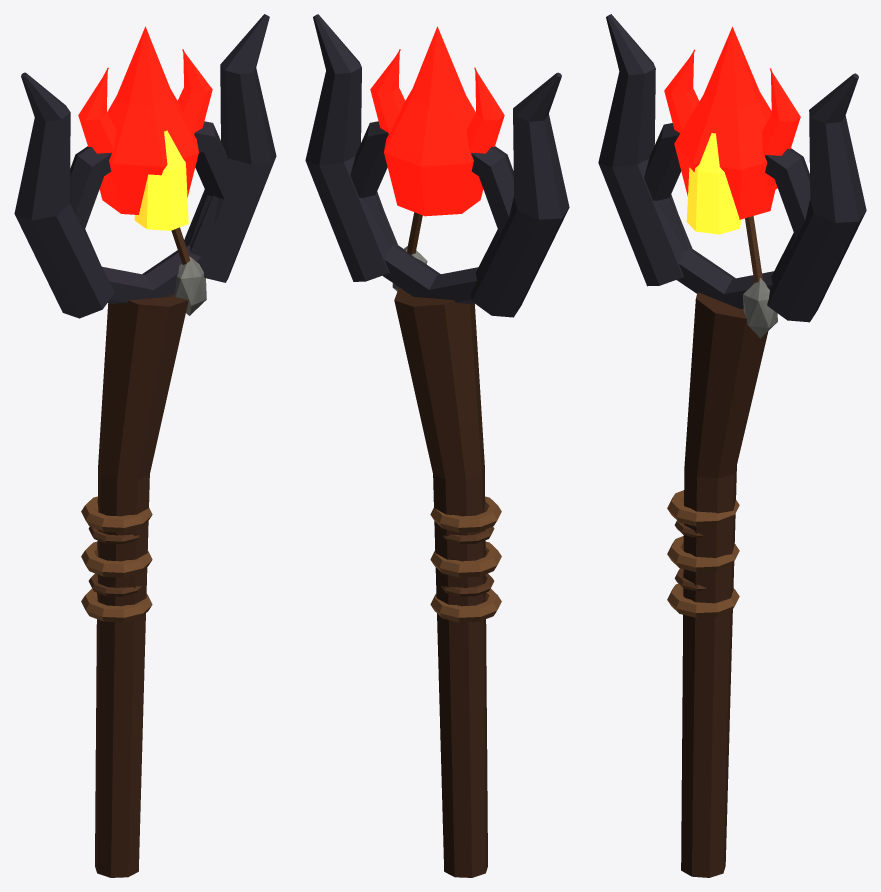
File: evil_staff.glb
3 views of the same model, side by side, from view 1: azimuth 30°, elevation 25°; view 2: azimuth 150°, elevation 25°; view 3: azimuth 330°, elevation 25° (orthographic).
Visible parts, largest first — view 1: Twisted dark staff shaft, Staff crooked claw, Staff crooked claw.001, Red magical flame, Iron staff crown, Bright flame heart, Curling flame tongue, Curling flame tongue.001, Staff grip wrap.002, Woodland staff carved seed charm, Staff grip wrap, Staff grip wrap.001; view 2: Twisted dark staff shaft, Staff crooked claw, Red magical flame, Staff crooked claw.001, Iron staff crown, Curling flame tongue, Curling flame tongue.001, Staff grip wrap.002, Staff grip wrap, Staff grip wrap.001; view 3: Twisted dark staff shaft, Staff crooked claw.001, Staff crooked claw, Red magical flame, Iron staff crown, Bright flame heart, Curling flame tongue.001, Curling flame tongue, Woodland staff carved seed charm, Staff grip wrap, Staff grip wrap.001, Staff grip wrap.002 (+1 smaller).
Boxes of the visible parts, bbox=[...] form: Twisted dark staff shaft: bbox=[95, 294, 188, 877]; Staff crooked claw: bbox=[14, 72, 114, 318]; Staff crooked claw.001: bbox=[184, 14, 276, 282]; Red magical flame: bbox=[99, 26, 198, 214]; Iron staff crown: bbox=[70, 121, 233, 303]; Bright flame heart: bbox=[134, 130, 188, 230]; Curling flame tongue: bbox=[78, 67, 116, 192]; Curling flame tongue.001: bbox=[177, 49, 212, 134]; Staff grip wrap.002: bbox=[81, 496, 152, 532]; Woodland staff carved seed charm: bbox=[173, 256, 206, 315]; Staff grip wrap: bbox=[81, 589, 152, 622]; Staff grip wrap.001: bbox=[81, 541, 152, 577]; Twisted dark staff shaft: bbox=[394, 288, 487, 877]; Staff crooked claw: bbox=[470, 72, 569, 317]; Red magical flame: bbox=[384, 26, 483, 216]; Staff crooked claw.001: bbox=[305, 14, 398, 281]; Iron staff crown: bbox=[350, 121, 513, 303]; Curling flame tongue: bbox=[466, 67, 504, 192]; Curling flame tongue.001: bbox=[370, 49, 405, 134]; Staff grip wrap.002: bbox=[430, 496, 501, 532]; Staff grip wrap: bbox=[430, 588, 501, 622]; Staff grip wrap.001: bbox=[430, 541, 501, 577]; Twisted dark staff shaft: bbox=[681, 292, 768, 877]; Staff crooked claw.001: bbox=[767, 73, 866, 322]; Staff crooked claw: bbox=[598, 14, 693, 286]; Red magical flame: bbox=[674, 26, 776, 219]; Iron staff crown: bbox=[644, 123, 810, 308]; Bright flame heart: bbox=[686, 133, 741, 234]; Curling flame tongue.001: bbox=[762, 68, 800, 195]; Curling flame tongue: bbox=[664, 49, 699, 132]; Woodland staff carved seed charm: bbox=[743, 278, 777, 338]; Staff grip wrap: bbox=[667, 583, 739, 617]; Staff grip wrap.001: bbox=[667, 536, 739, 572]; Staff grip wrap.002: bbox=[667, 490, 739, 526].
Size of the model in its own units: 0.714 by 2.23 by 0.2845.
Materials: 7 (1 with a texture image).
